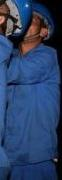gloves: (0, 92, 15, 125), (0, 0, 18, 18)
hard-hat: (0, 0, 33, 37)
ppe-suit: (0, 0, 31, 140)
